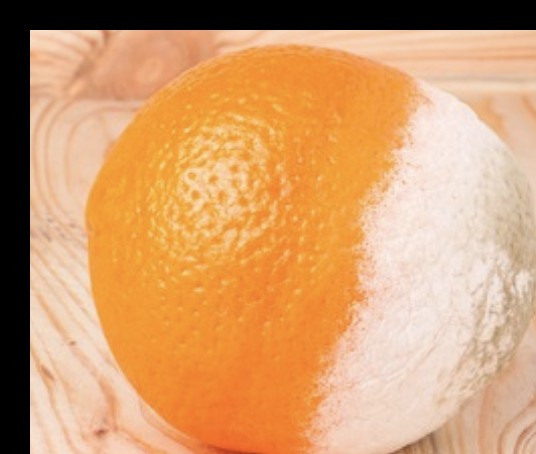rotten_orange: (85, 43, 536, 454)
